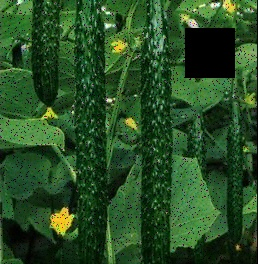cucumber: (74, 7, 106, 260), (143, 11, 168, 263), (30, 0, 59, 101), (227, 117, 247, 243)
cucumber_plant: (4, 155, 70, 234)
